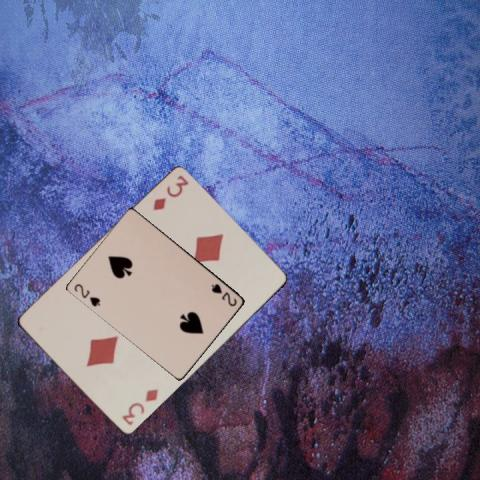2s: (71, 281, 102, 308), (208, 281, 238, 308)
3d: (149, 172, 191, 213), (119, 386, 159, 427)
